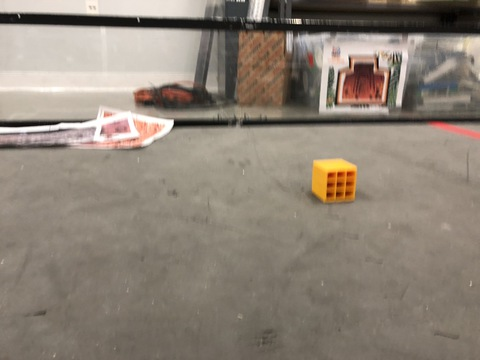block: (297, 157, 362, 211)
